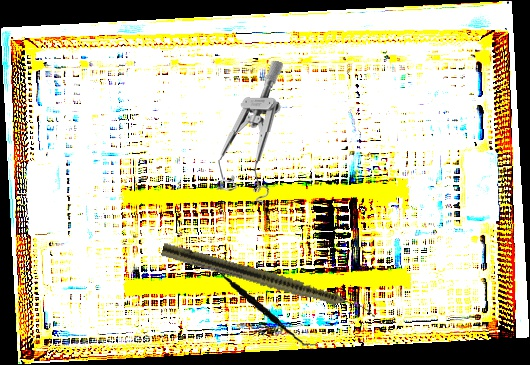Handpiece: (159, 241, 380, 321)
Spatula Surgical: (193, 262, 325, 348)
Speculum: (216, 59, 283, 205)
